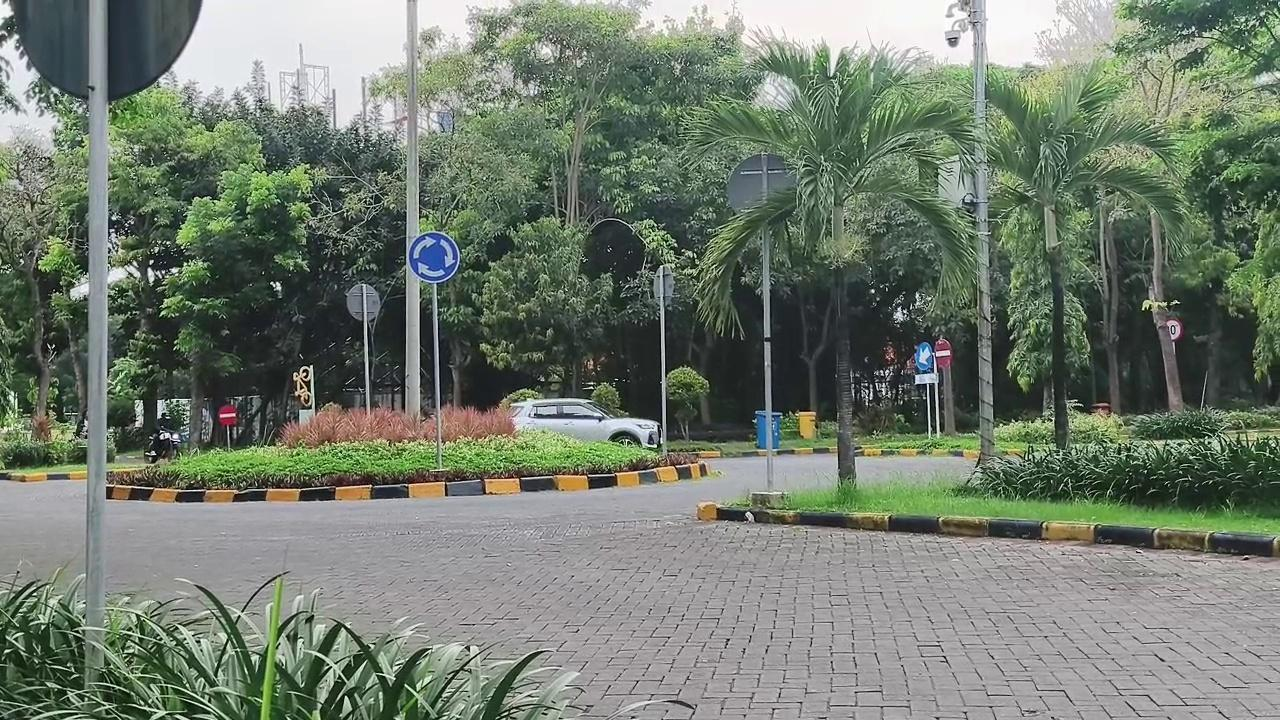Motor: (144, 429, 182, 463)
